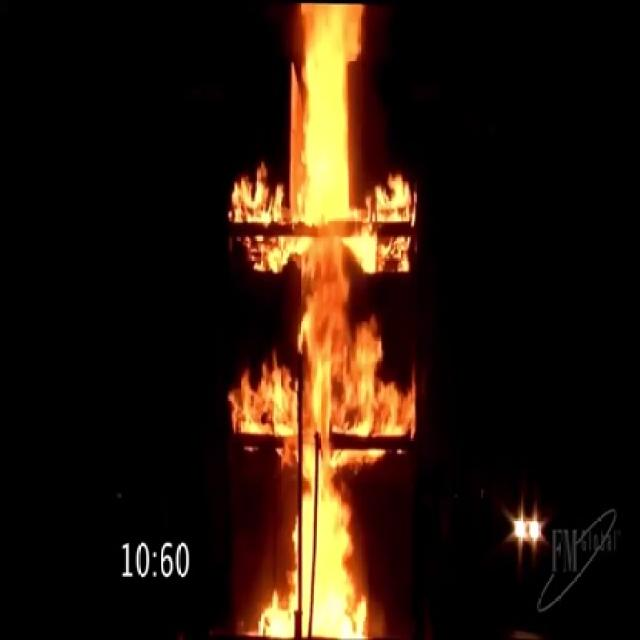Fire: (232, 0, 412, 638)
